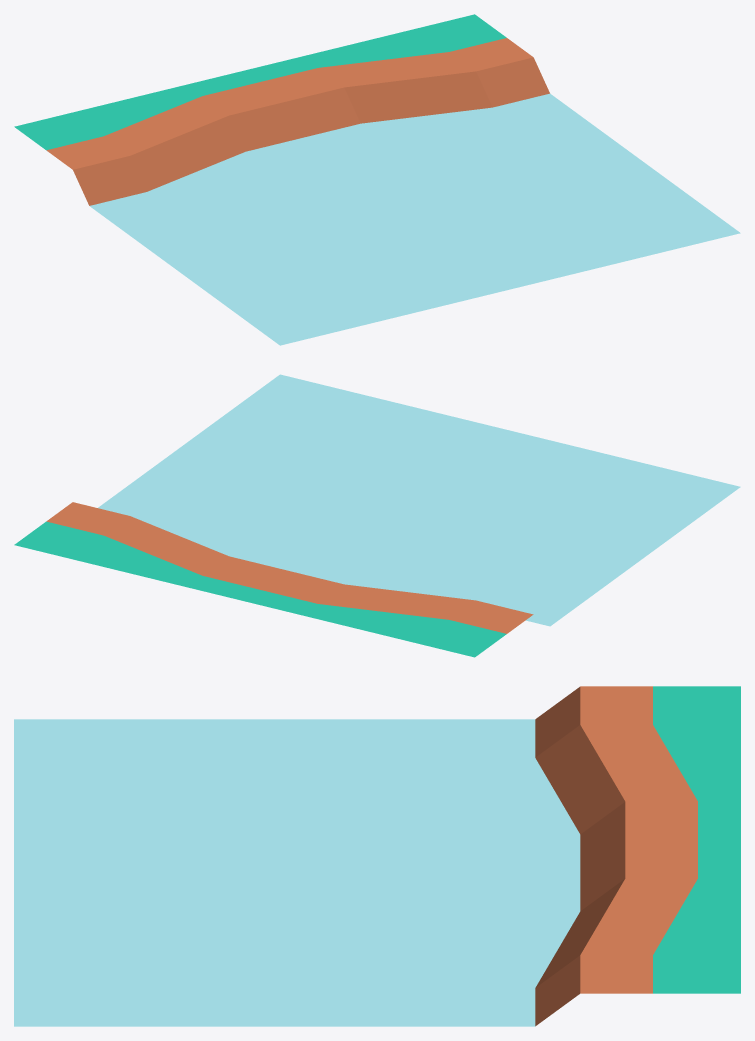
The model's file is ground_riverSide.glb.
3 views of the same model, one above another, from view 1: azimuth 30°, elevation 25°; view 2: azimuth 150°, elevation 25°; view 3: azimuth 270°, elevation 25° (orthographic). The views are drawn at different scales.
Parts seen in each view (by area): view 1: ground_riverSide; view 2: ground_riverSide; view 3: ground_riverSide.
Part boxes in pixels (left/top/right/bottom): ground_riverSide: left=14, top=14, right=740, bottom=345; ground_riverSide: left=14, top=374, right=740, bottom=657; ground_riverSide: left=14, top=686, right=740, bottom=1026.
Bounding box in the file's own units: 1 × 0.05 × 1.
